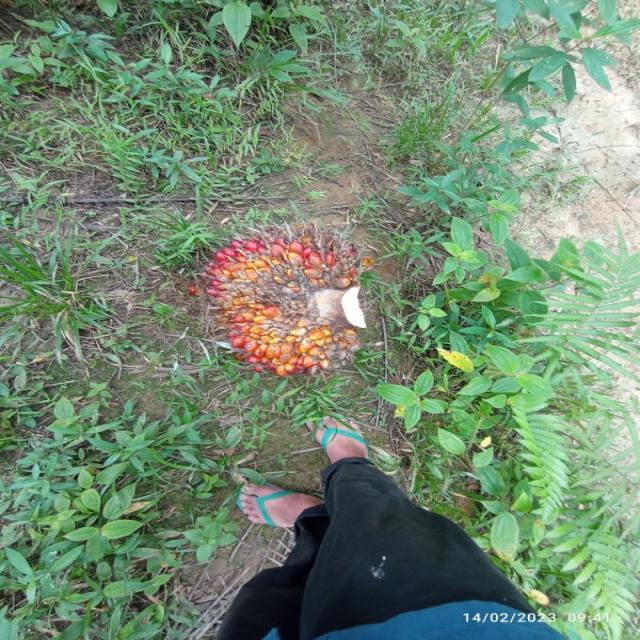fraksi 3: (138, 189, 412, 413)
